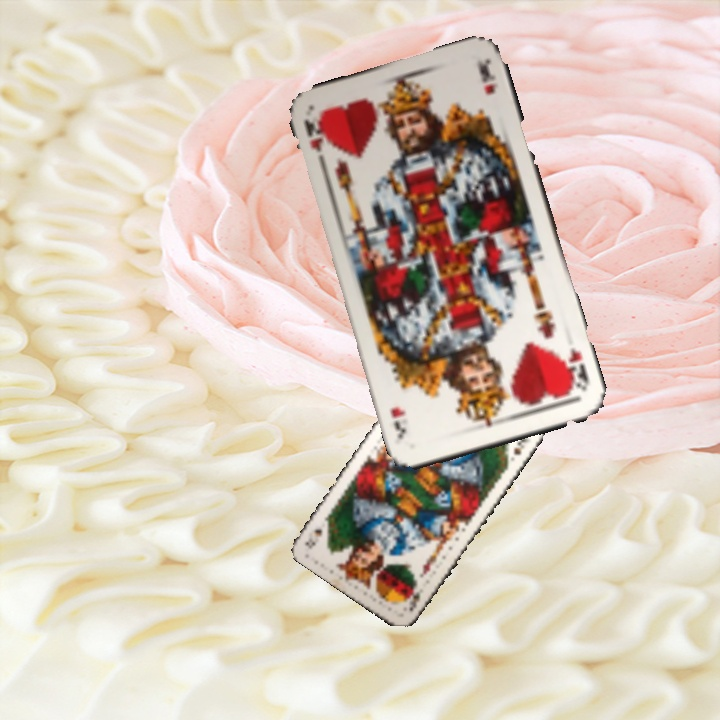HK: (299, 115, 330, 170), (561, 343, 592, 393)
SK: (402, 584, 424, 615)
